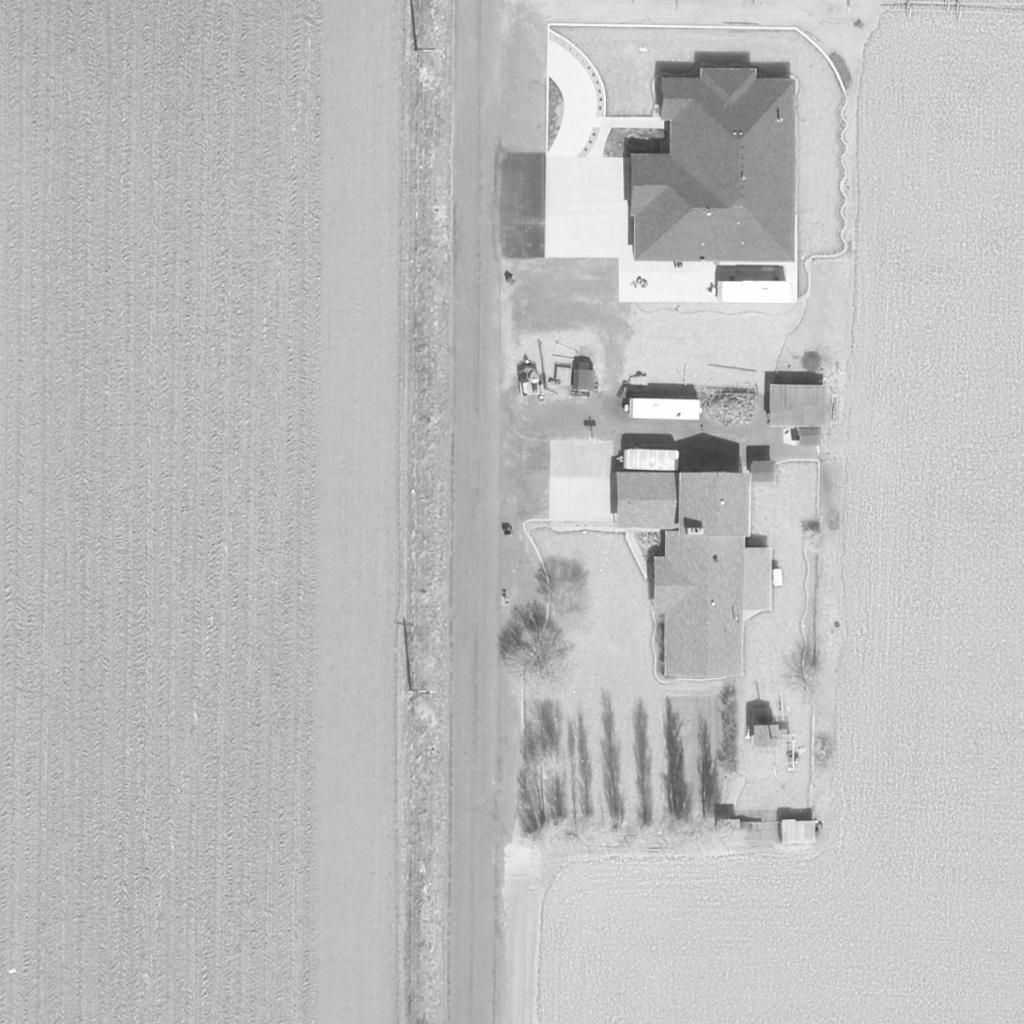vehicle: (707, 280, 795, 306), (622, 397, 706, 421), (614, 450, 682, 474)
